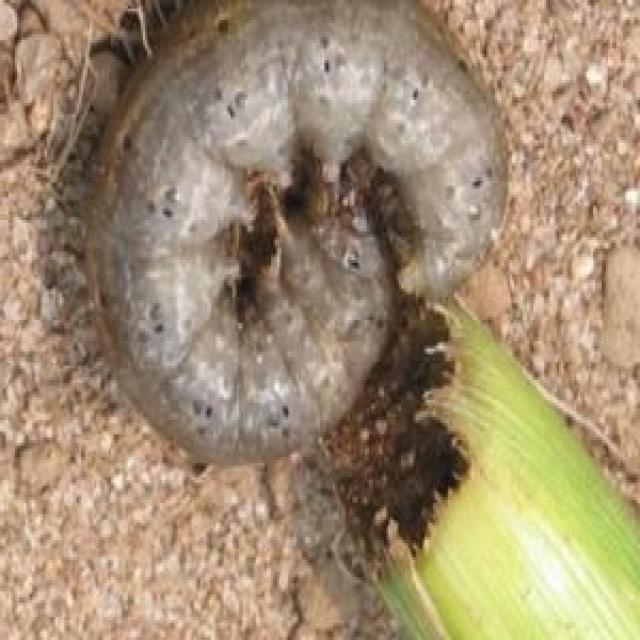black cutworm: (88, 5, 511, 494)
